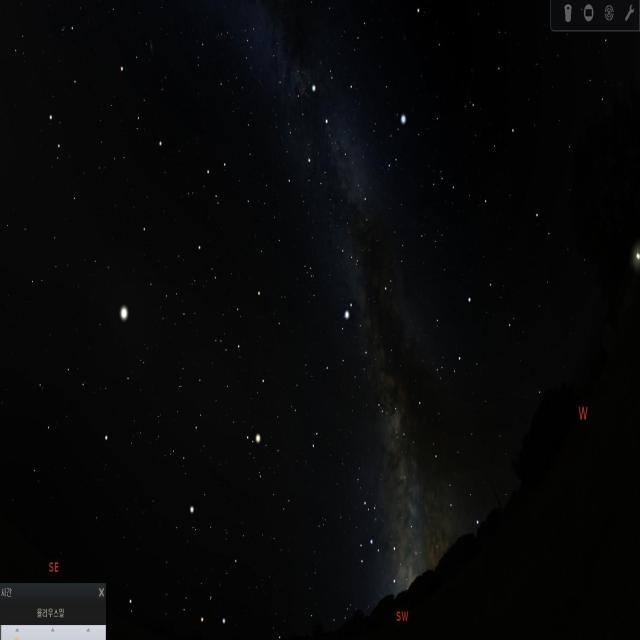aquila: (321, 304, 396, 422)
cygnus: (308, 76, 372, 239)
lyra: (381, 103, 410, 191)
